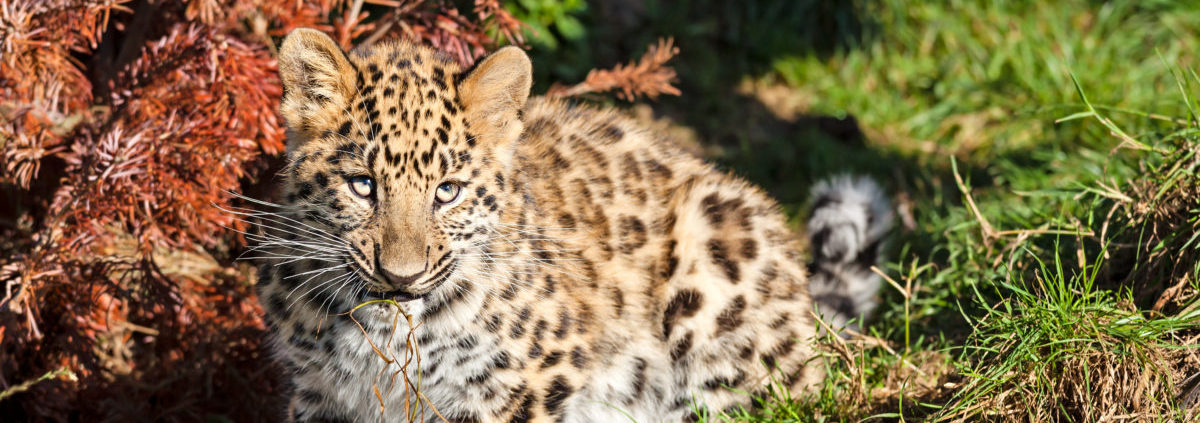amur_leopard: (261, 19, 840, 419)
